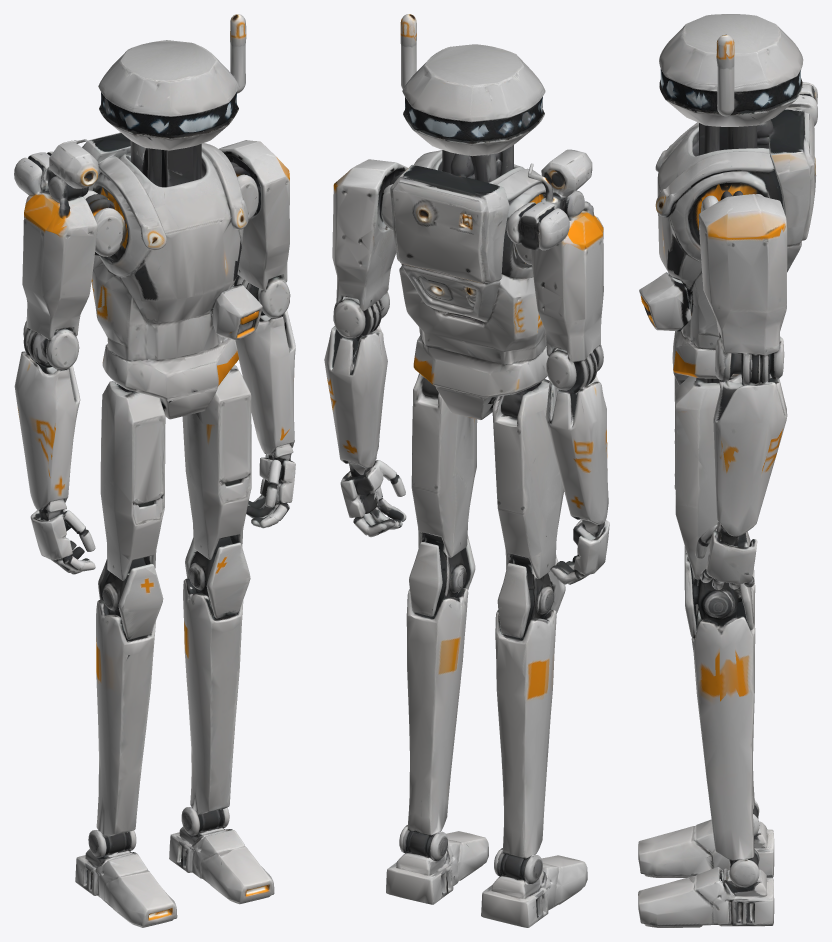
The model's file is hero-robot.glb.
3 renders of one model, left to right at view 1: azimuth 30°, elevation 25°; view 2: azimuth 150°, elevation 25°; view 3: azimuth 270°, elevation 25°, orthographic. The views are drawn at different scales.
Visible parts, largest first — view 1: body, head; view 2: body, head; view 3: body, head.
Part boxes in pixels (x1,y1,x2,y2): body: [14, 84, 295, 927]; head: [98, 14, 246, 151]; body: [324, 86, 609, 927]; head: [400, 14, 545, 157]; body: [638, 82, 817, 927]; head: [659, 14, 803, 126].
Size of the model in its own units: 0.3269 by 0.9999 by 0.1822.
Materials: 1 (1 with a texture image).
